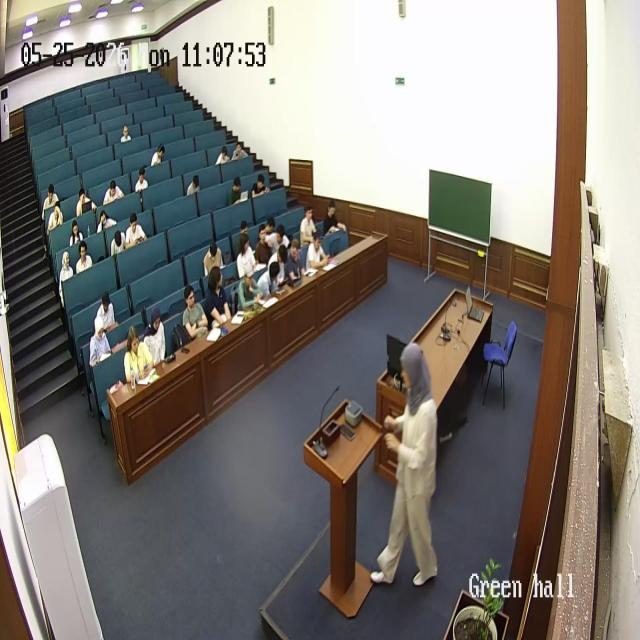person: (372, 343, 439, 586), (122, 325, 154, 386), (181, 284, 210, 342), (204, 267, 232, 326), (142, 307, 168, 365), (236, 264, 264, 313), (88, 315, 112, 367), (256, 252, 283, 298), (236, 232, 260, 280), (58, 250, 76, 309), (268, 246, 290, 294), (284, 236, 306, 284), (96, 291, 118, 333), (306, 229, 328, 271), (256, 221, 276, 267), (324, 198, 348, 236), (203, 240, 224, 281), (125, 212, 147, 248), (41, 183, 60, 221), (300, 204, 318, 243), (76, 185, 96, 217), (46, 204, 64, 239), (103, 177, 125, 205), (75, 242, 93, 276), (96, 206, 114, 236), (250, 172, 270, 198), (69, 220, 85, 252), (110, 229, 128, 257), (228, 177, 244, 205), (135, 165, 149, 193), (150, 143, 166, 166), (186, 174, 200, 198), (214, 146, 230, 166), (232, 142, 248, 160), (120, 124, 132, 143)
